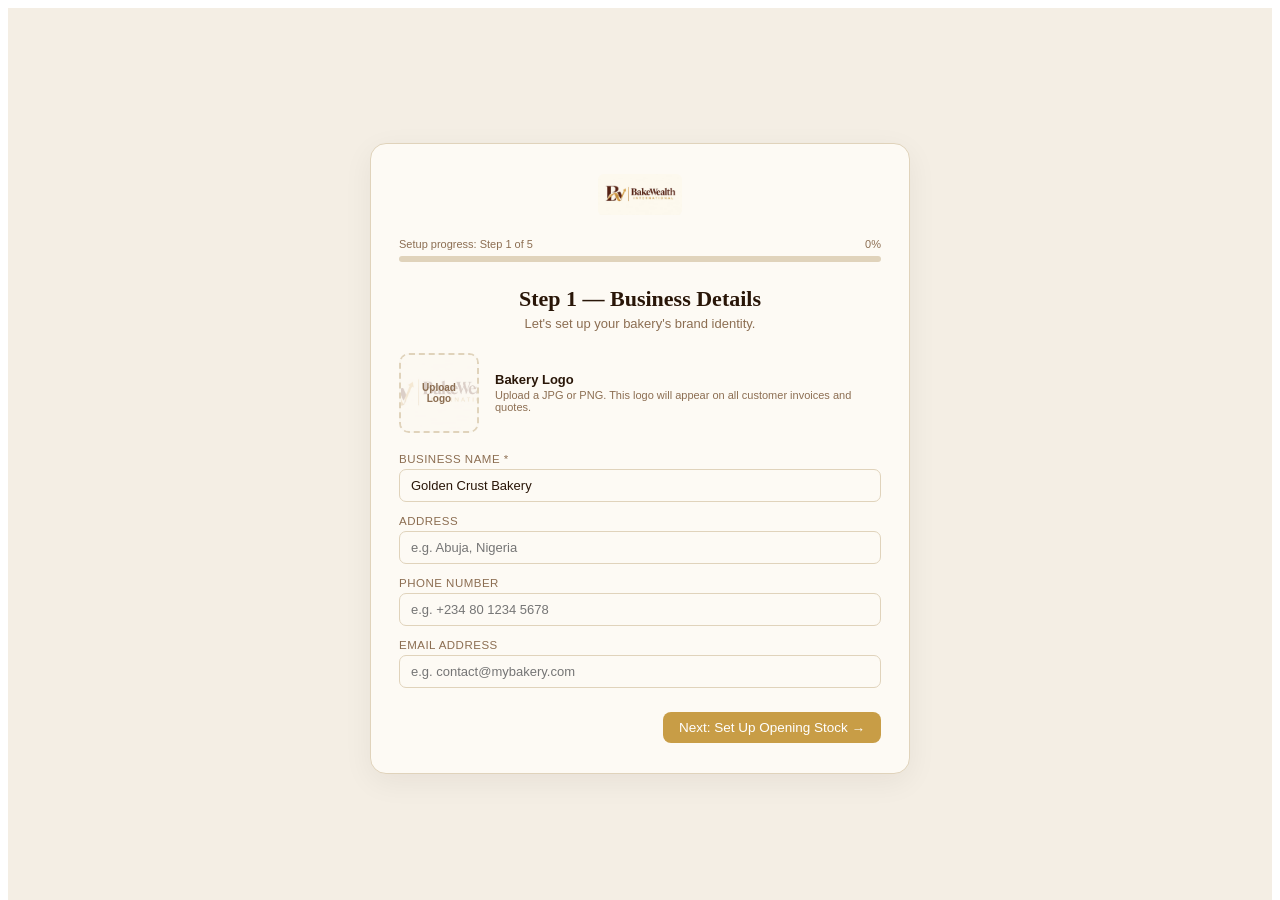
it: Onboarding Step 3 Recipe & Ingredient Import › Allows importing ingredients from inside the Edit/Add Recipe modal
Click the button "Next: Set Up Opening Stock →".
click(772, 727)  # box [663, 712, 881, 742]
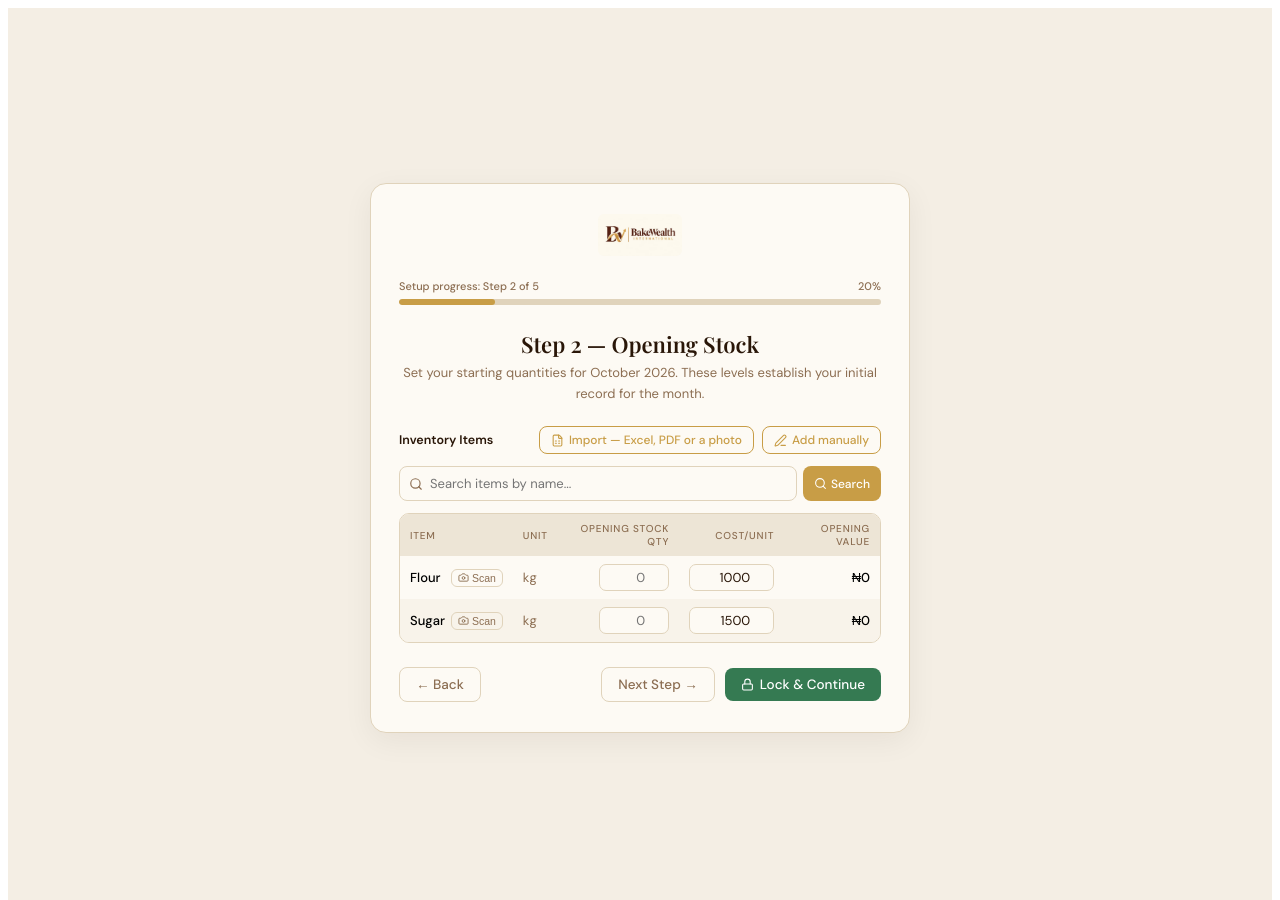
Result: the button "Next Step →" is shown
Click the button "Next Step →".
click(658, 685)  # box [601, 667, 715, 702]
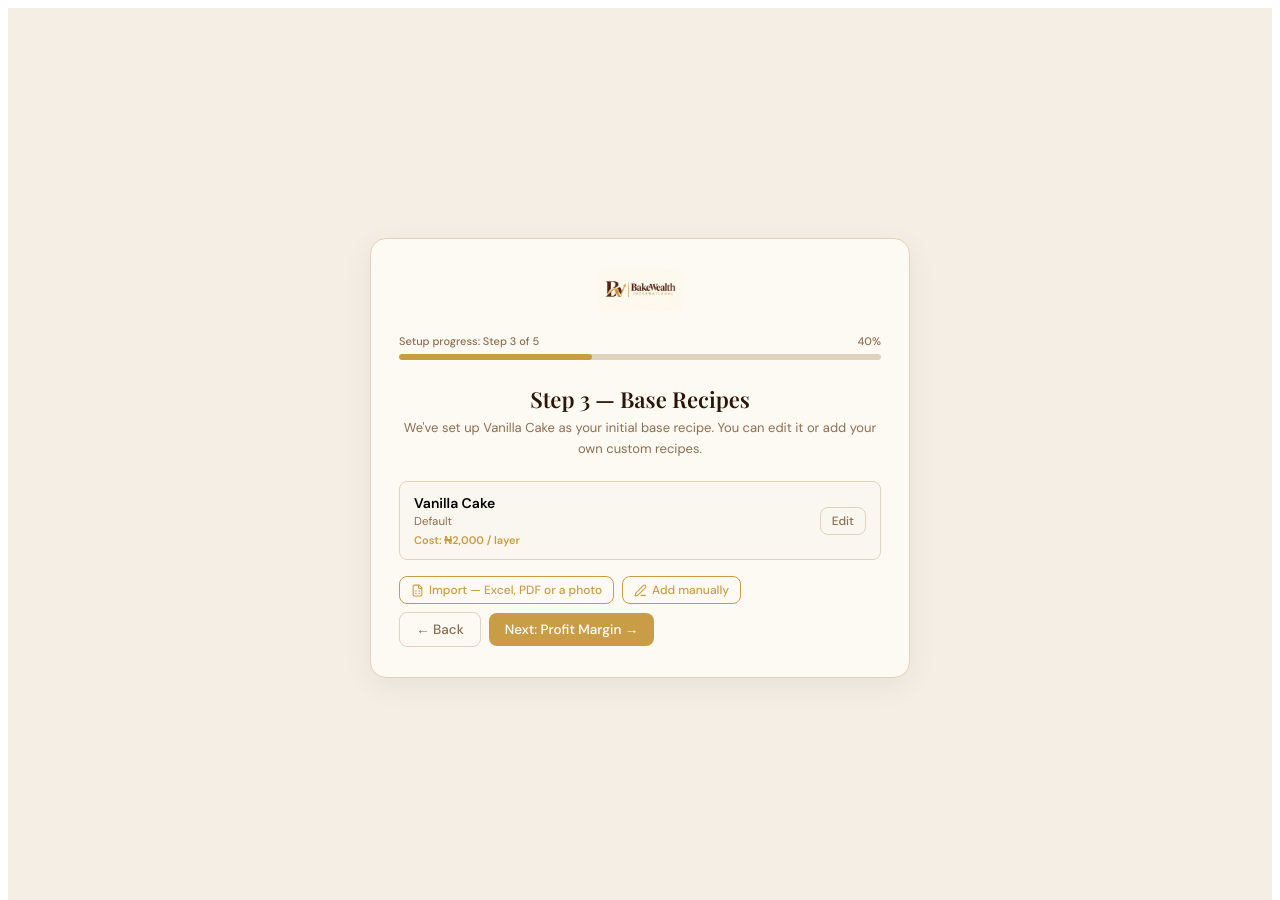
Result: the button "Add manually" is shown
Result: the text "Step 3 — Base Recipes" is shown at [530, 384, 750, 414]
Click the button "Add manually".
click(682, 590)  # box [622, 576, 741, 604]
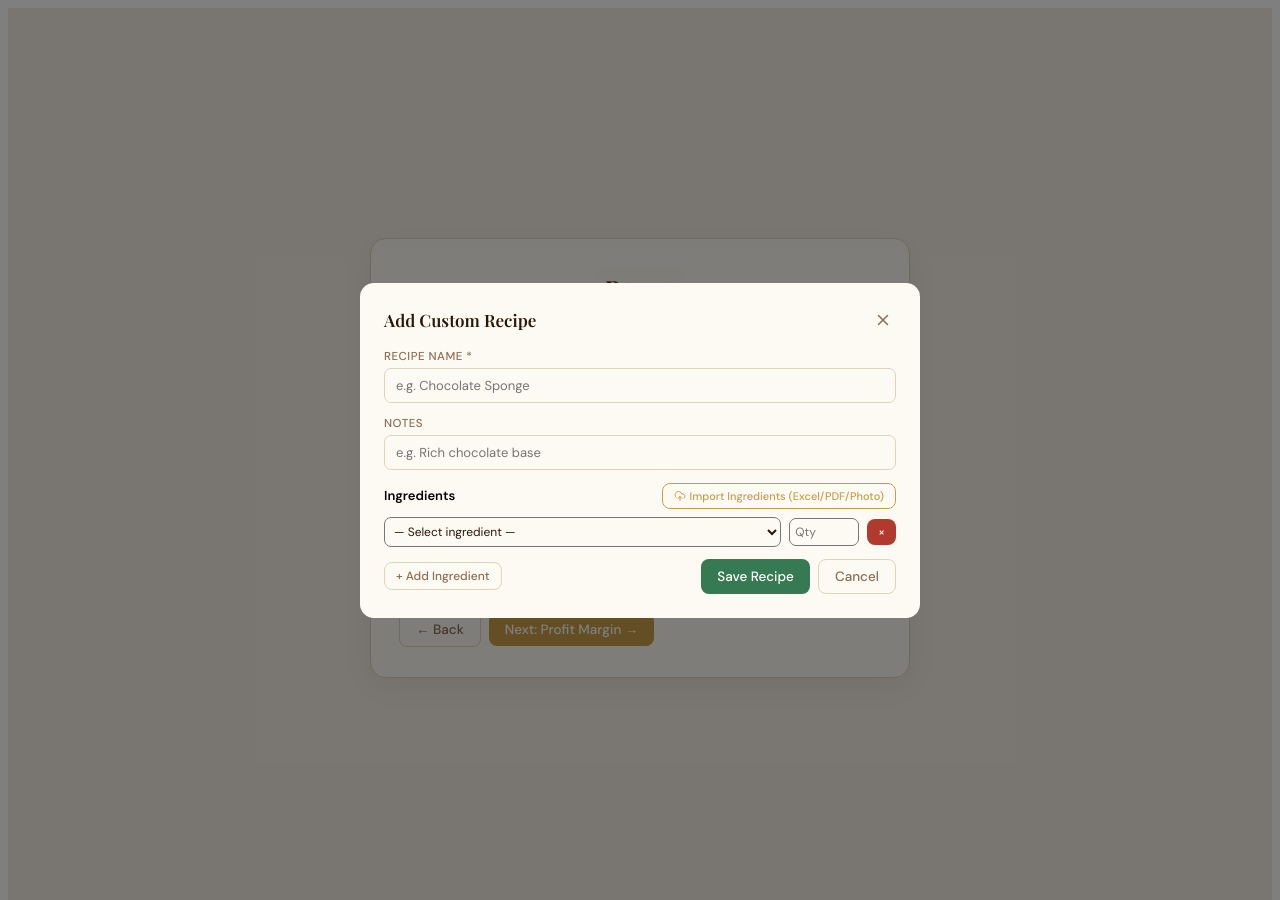
Result: the button "Import Ingredients (Excel/PDF/Photo)" is shown
Click the button "Import Ingredients (Excel/PDF/Photo)".
click(779, 496)  # box [662, 482, 896, 508]
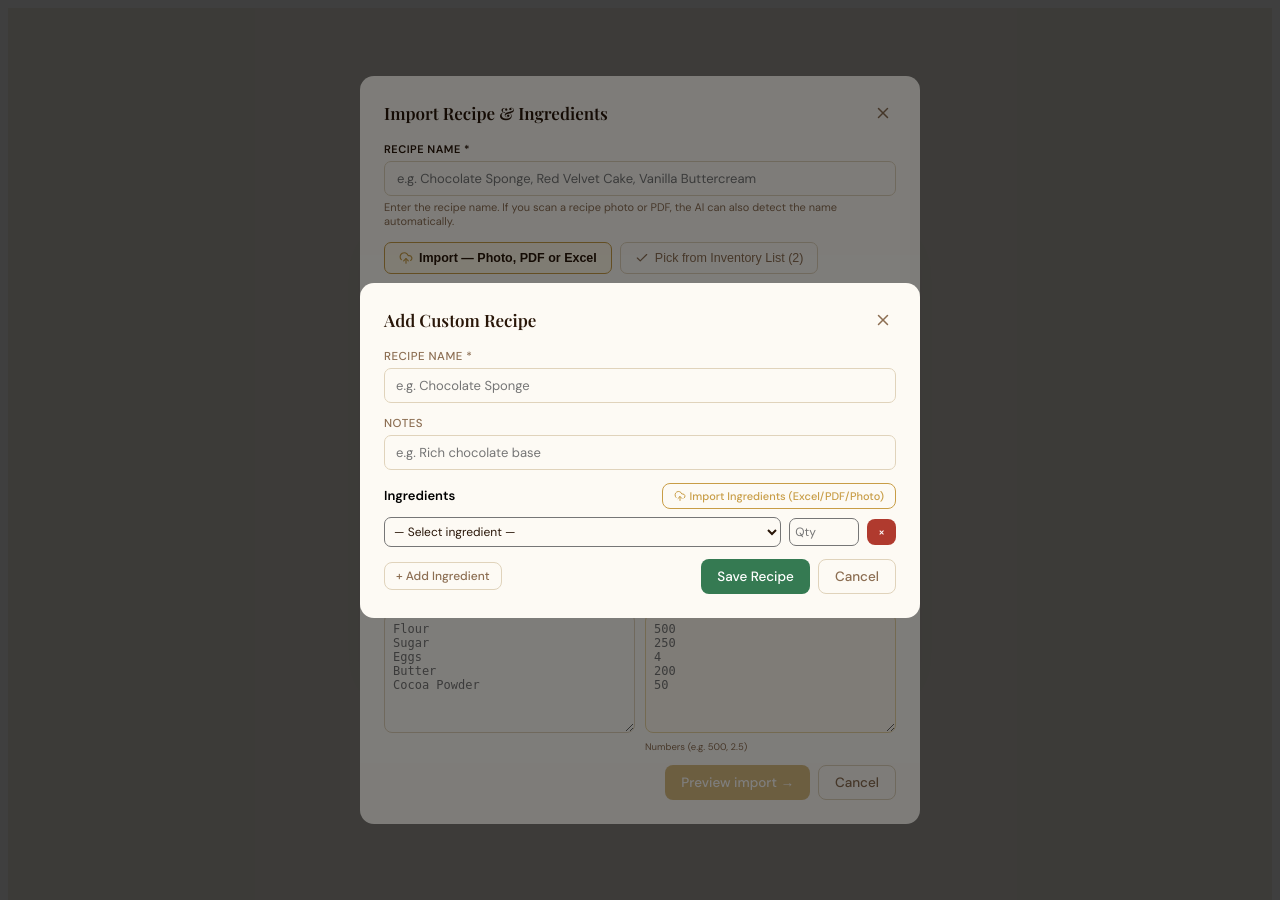
Expected: the text "Option B: Paste Ingredient Columns from Excel" is shown, [405, 543, 695, 560]
Result: the text "Import Recipe & Ingredients" is shown at [384, 102, 608, 124]
